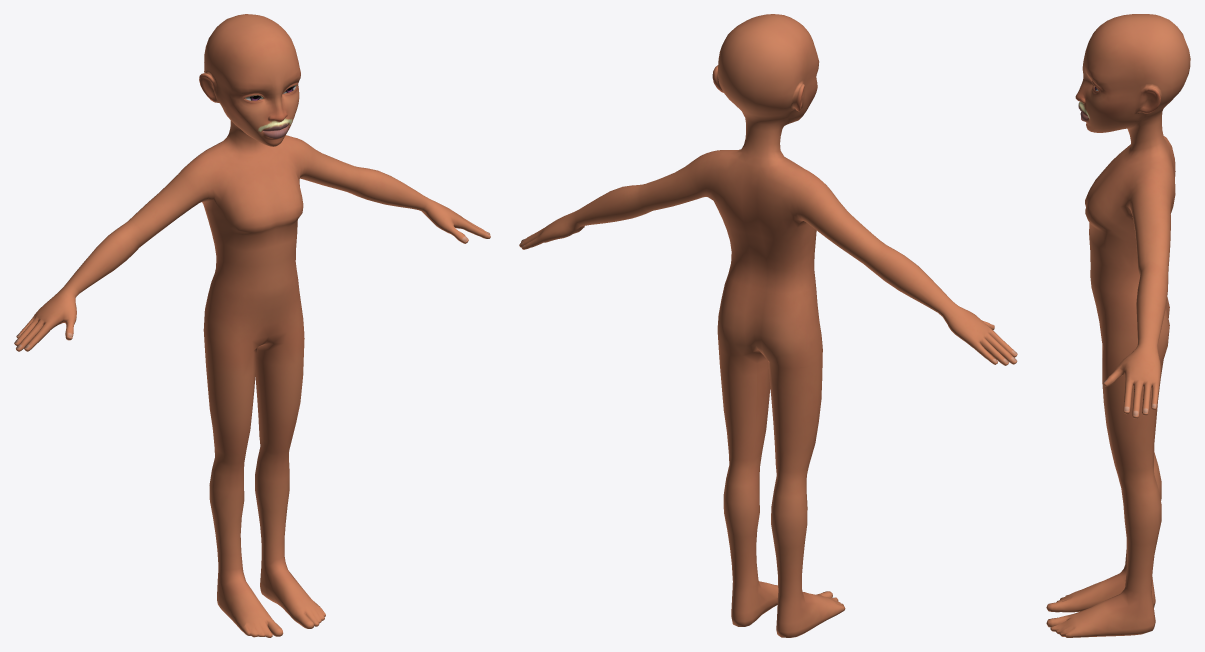
The model's file is frame_0021.glb.
3 views of the same model, side by side, from view 1: azimuth 30°, elevation 25°; view 2: azimuth 150°, elevation 25°; view 3: azimuth 270°, elevation 25° (orthographic). The views are drawn at different scales.
Parts seen in each view (by area): view 1: frame_0021_head_geo; view 2: frame_0021_head_geo; view 3: frame_0021_head_geo.
Boxes of the visible parts, x1,y1,x2,y2 form: frame_0021_head_geo: (14,14,490,637); frame_0021_head_geo: (519,14,1017,637); frame_0021_head_geo: (1046,14,1190,637).
Bounding box in the file's own units: 1.28 × 1.5 × 0.3253.
3 materials, 3 textured.
